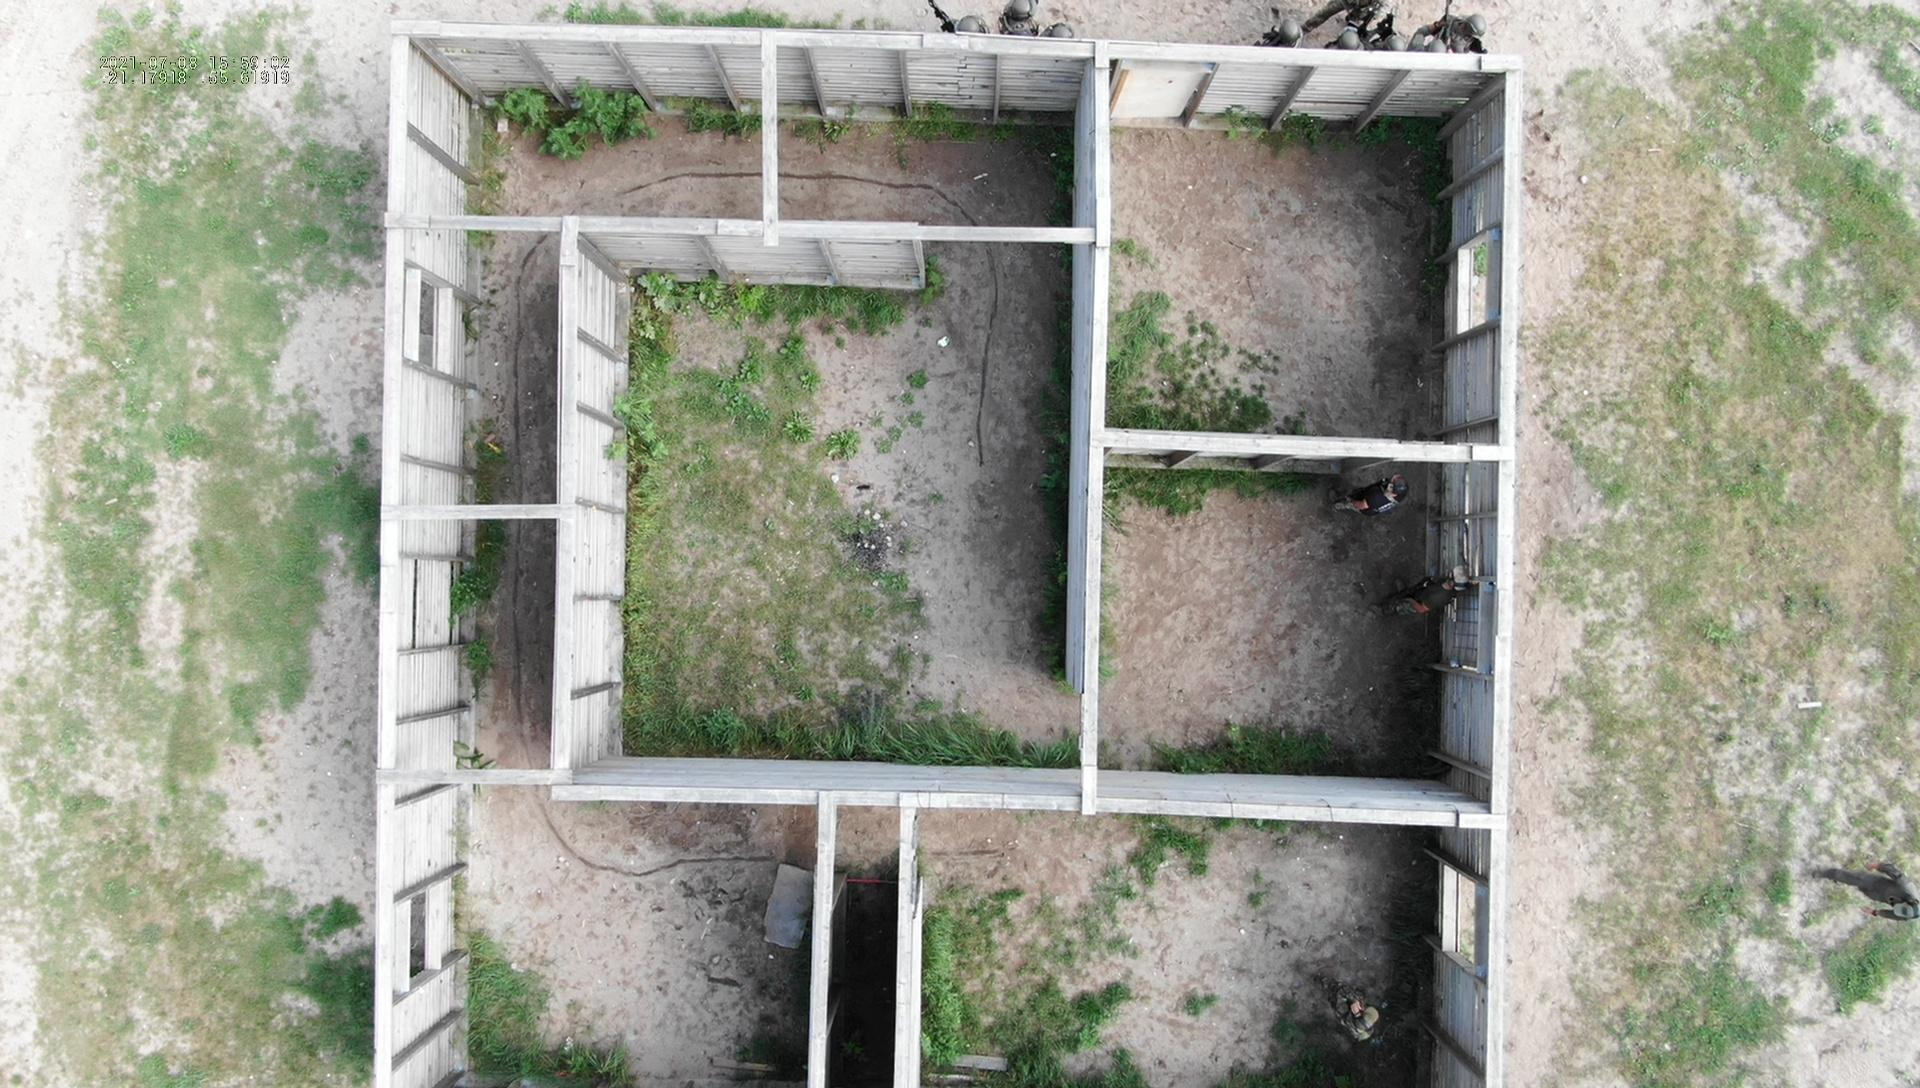Soldier: (1813, 843, 1920, 972), (1367, 574, 1458, 655), (1328, 460, 1412, 543), (1320, 967, 1399, 1048), (1431, 11, 1489, 51), (927, 1, 986, 36), (1261, 4, 1304, 49)
